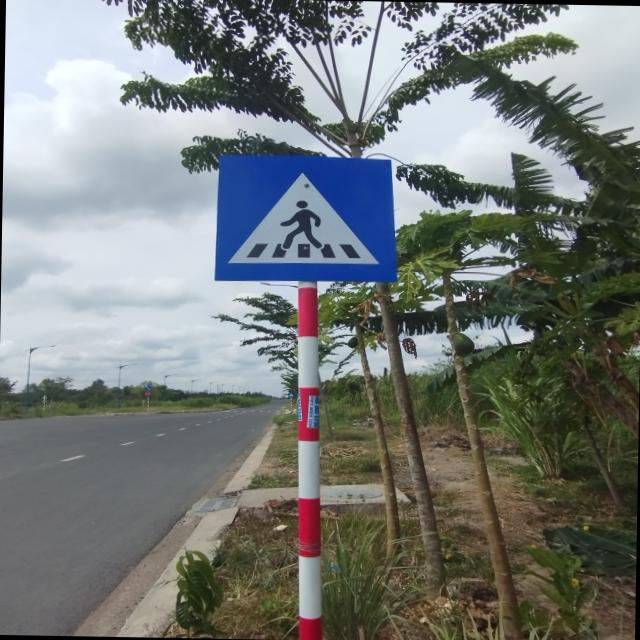Giao_Nhau_Duong_Uu_Tien: (214, 153, 398, 284)
